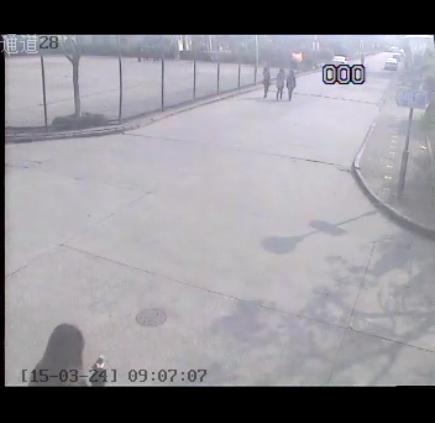person: (259, 63, 274, 101), (274, 64, 287, 102), (285, 68, 299, 101)
